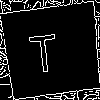T: (26, 25, 60, 73)
